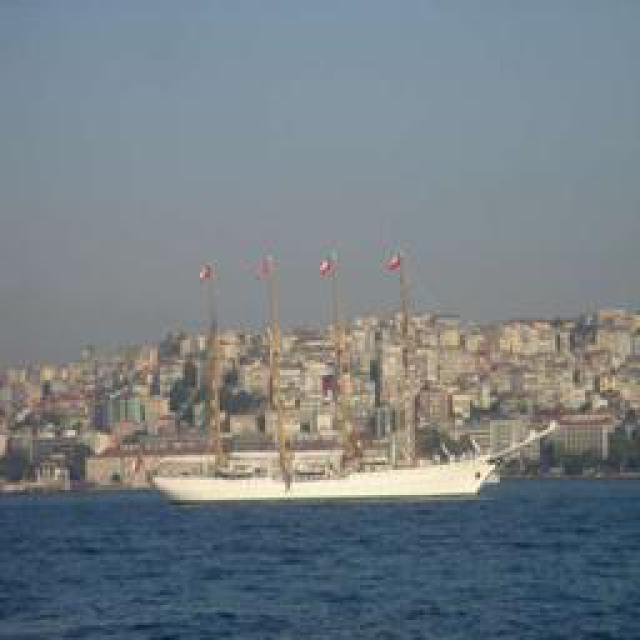Ship: (155, 446, 505, 509)
